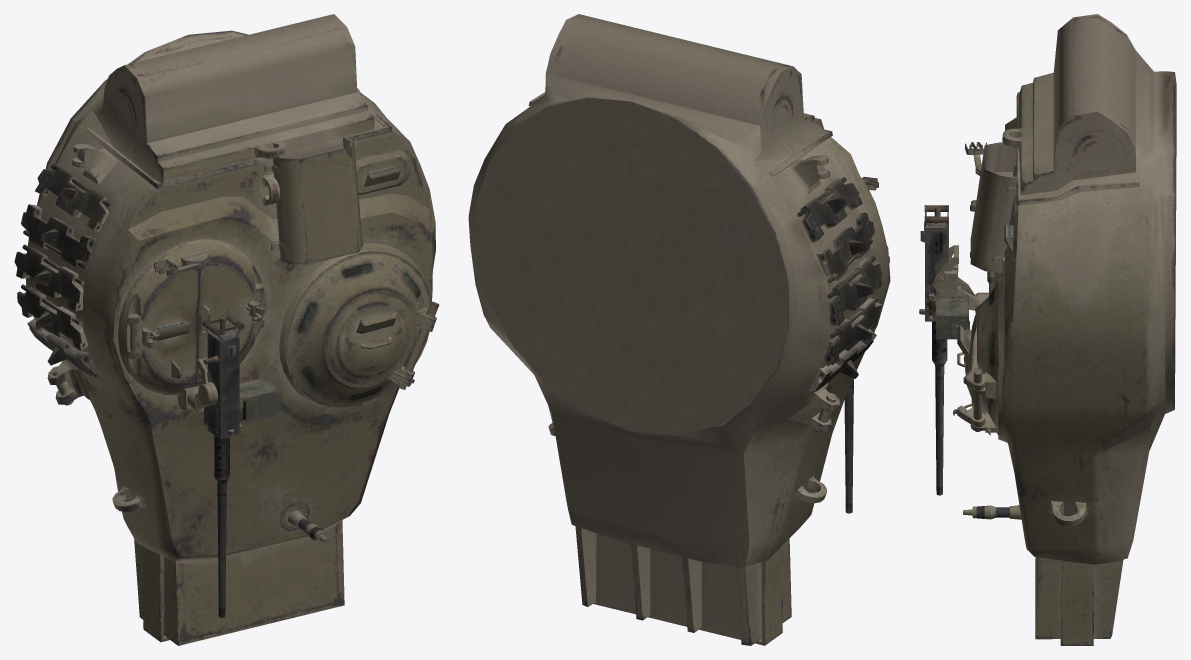
Rendered from Turret_01.glb.
The picture shows the model from 3 angles, left to right: view 1: azimuth 30°, elevation 25°; view 2: azimuth 150°, elevation 25°; view 3: azimuth 270°, elevation 25°; orthographic projection. The views are drawn at different scales.
Visible parts, largest first — view 1: set_0_group_0; view 2: set_0_group_0; view 3: set_0_group_0.
Part boxes in pixels (box(x1,y1,x2,y2)): set_0_group_0: box(14, 14, 439, 645); set_0_group_0: box(468, 14, 890, 645); set_0_group_0: box(919, 14, 1176, 645).
Size of the model in its own units: 2.38 by 3.49 by 1.5.
Materials: 1 (1 with a texture image).
